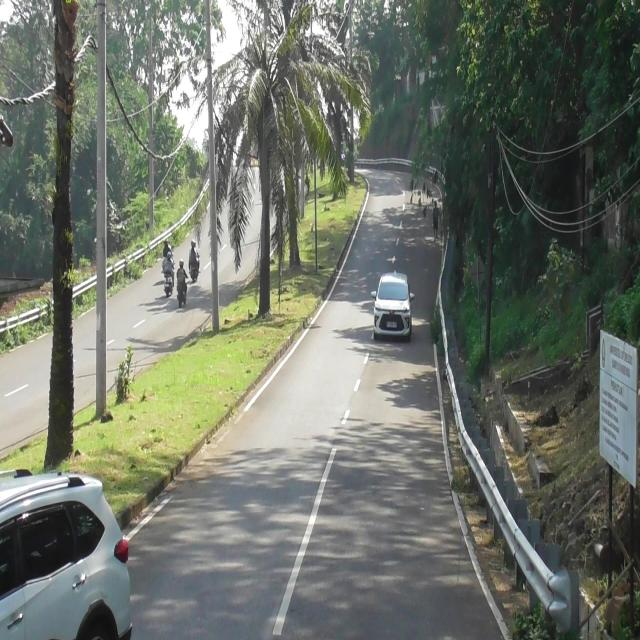motorcycle: (178, 283, 187, 308), (164, 274, 173, 299), (192, 262, 200, 281)
person: (190, 239, 199, 272), (177, 260, 187, 285), (194, 240, 201, 273), (165, 253, 174, 277), (163, 240, 169, 256)
rider_region: (176, 257, 188, 309), (188, 239, 200, 283), (164, 252, 174, 299)
